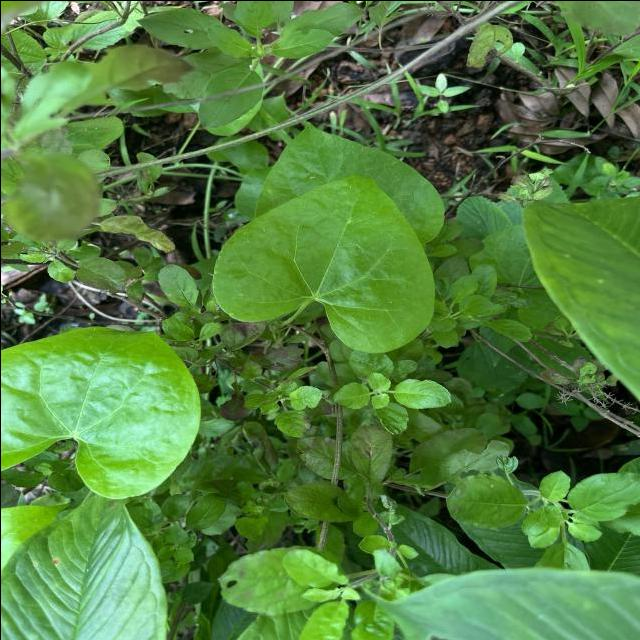Tinospora cordifolia: (208, 172, 437, 355), (0, 322, 202, 501)
